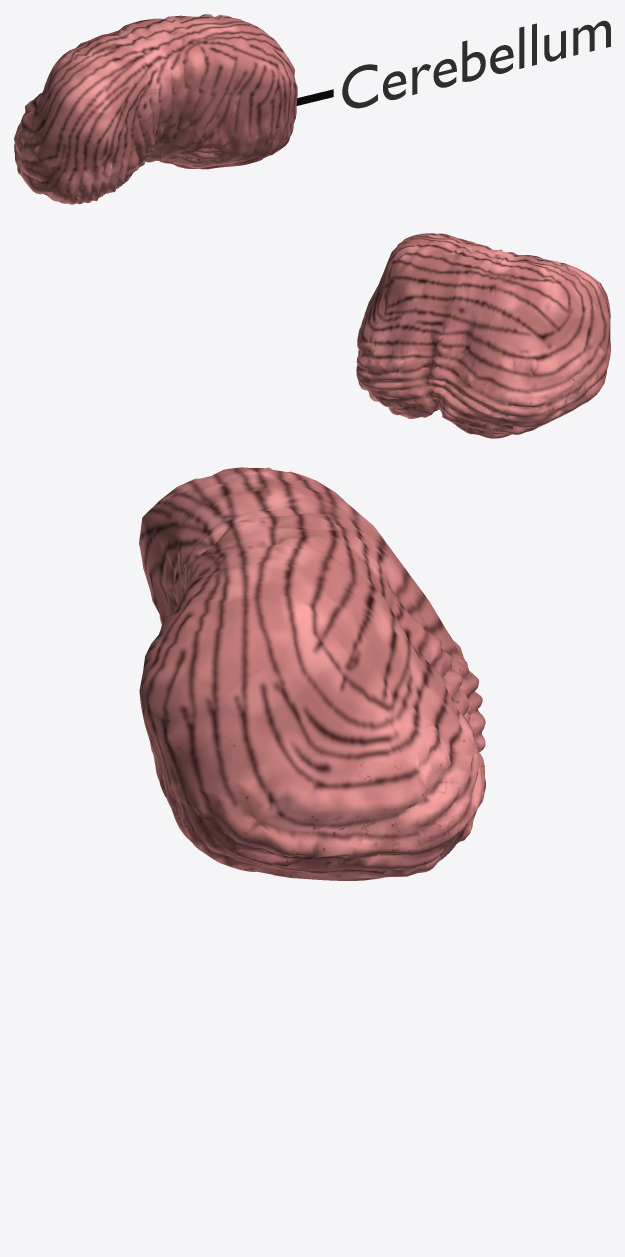
Rendered from brain-cerebellum.glb.
3 renders of one model, top to bottom at view 1: azimuth 30°, elevation 25°; view 2: azimuth 150°, elevation 25°; view 3: azimuth 270°, elevation 25°, orthographic. The views are drawn at different scales.
Parts seen in each view (by area): view 1: cerebellum (×3); view 2: cerebellum; view 3: cerebellum.
Boxes of the visible parts, bbox=[...] form: cerebellum (×3): bbox=[14, 14, 610, 204]; cerebellum: bbox=[356, 233, 610, 438]; cerebellum: bbox=[139, 467, 485, 880].
Bounding box in the file's own units: 6.43 × 1.63 × 1.74.
Materials: 3 (1 with a texture image).
